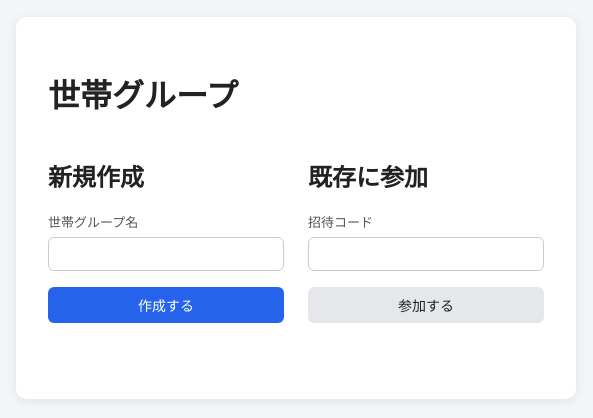
HouseholdPage › 招待コード不正（400）はAPIのメッセージを表示する
In the field labelled "招待コード": (426, 254) [308, 237, 544, 271], type "WRONGCODE0000000"
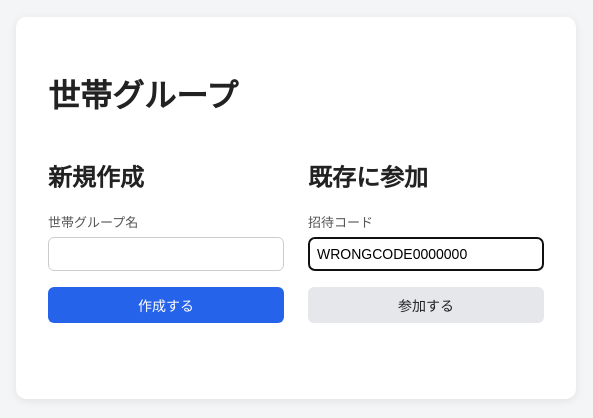
Click the button "参加する": (426, 305) [308, 287, 544, 323]
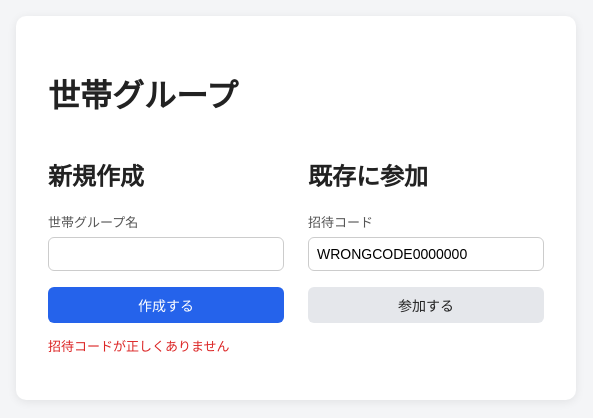
Check: the text "招待コードが正しくありません" is shown, box [48, 338, 230, 354]
